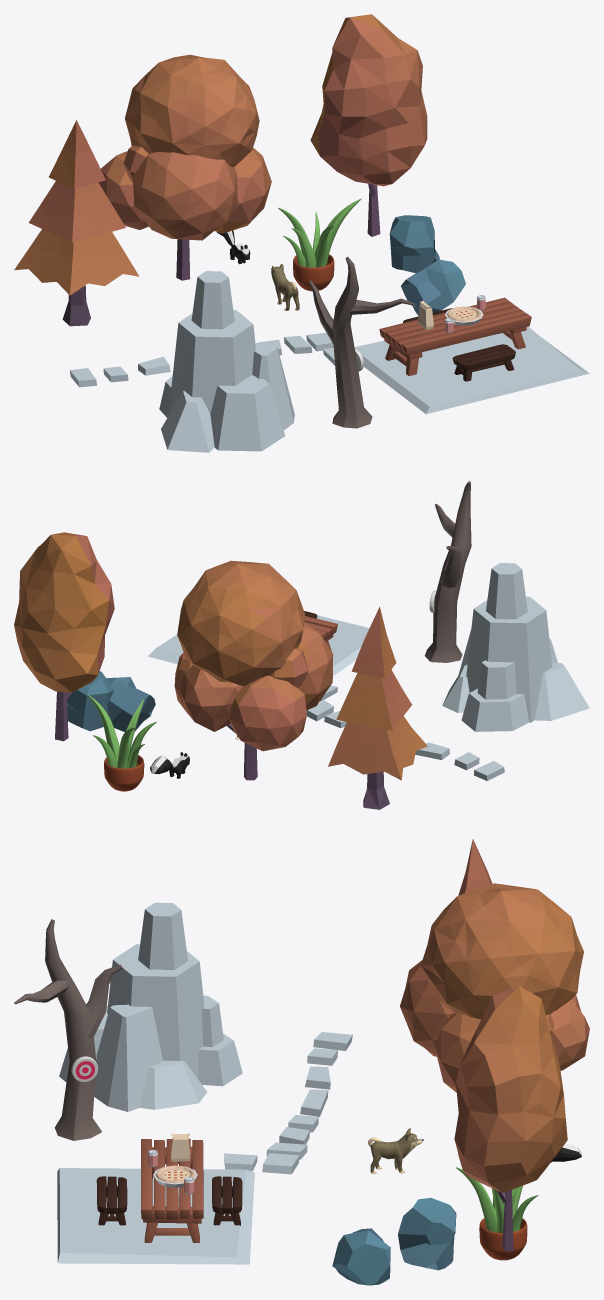
The model's file is hobbies2.glb.
3 renders of one model, top to bottom at view 1: azimuth 30°, elevation 25°; view 2: azimuth 150°, elevation 25°; view 3: azimuth 270°, elevation 25°, orthographic. The views are drawn at different scales.
Parts seen in each view (by area): view 1: tree-lime, formation_stone, tree-beech, tree-spruce, Cube.011, treeD_graveyard, tableLarge, menhir_mini, menhir_mini.001, bench.001, plant.001, body (+1 smaller); view 2: tree-lime, formation_stone, tree-beech, tree-spruce, treeD_graveyard, Cube.011, menhir_mini.001, menhir_mini, plant.001, Cube.001, NurbsPath.009, tableLarge; view 3: tree-lime, formation_stone, tree-beech, Cube.011, treeD_graveyard, tableLarge, menhir_mini, menhir_mini.001, bench.002, bench.001, body, plant.001 (+6 smaller).
Part boxes in pixels (x1,y1,x2,y2): tree-lime: [98, 54, 271, 280]; formation_stone: [159, 271, 294, 452]; tree-beech: [310, 14, 427, 236]; tree-spruce: [14, 120, 139, 326]; Cube.011: [354, 326, 589, 414]; treeD_graveyard: [309, 256, 414, 428]; tableLarge: [379, 297, 531, 375]; menhir_mini: [389, 215, 439, 273]; menhir_mini.001: [401, 259, 465, 315]; bench.001: [452, 344, 515, 381]; plant.001: [293, 254, 334, 291]; body: [271, 264, 299, 310]; tree-lime: [174, 560, 333, 780]; formation_stone: [442, 563, 589, 731]; tree-beech: [14, 532, 114, 741]; tree-spruce: [328, 606, 427, 809]; treeD_graveyard: [424, 481, 471, 662]; Cube.011: [148, 615, 388, 675]; menhir_mini.001: [106, 677, 155, 732]; menhir_mini: [67, 671, 114, 731]; plant.001: [104, 755, 144, 791]; Cube.001: [150, 752, 189, 778]; NurbsPath.009: [87, 694, 119, 763]; tableLarge: [304, 616, 337, 651]; tree-lime: [400, 883, 589, 1092]; formation_stone: [59, 902, 242, 1111]; tree-beech: [454, 986, 567, 1251]; Cube.011: [57, 1168, 254, 1264]; treeD_graveyard: [14, 919, 122, 1140]; tableLarge: [141, 1138, 203, 1242]; menhir_mini: [398, 1197, 456, 1270]; menhir_mini.001: [332, 1228, 390, 1285]; bench.002: [212, 1176, 242, 1225]; bench.001: [96, 1176, 127, 1225]; body: [368, 1128, 422, 1173]; plant.001: [479, 1218, 527, 1260].
Size of the model in its own units: 4.77 by 2.81 by 4.89.
Materials: 50 (5 with a texture image).
